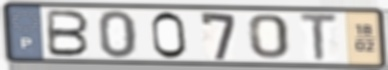0: (246, 13, 293, 61), (97, 9, 139, 60), (149, 10, 189, 60)
7: (199, 10, 238, 62)
B: (45, 8, 91, 58)
T: (298, 12, 341, 63)
